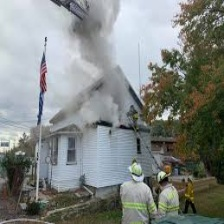smoke: (49, 1, 132, 114)
